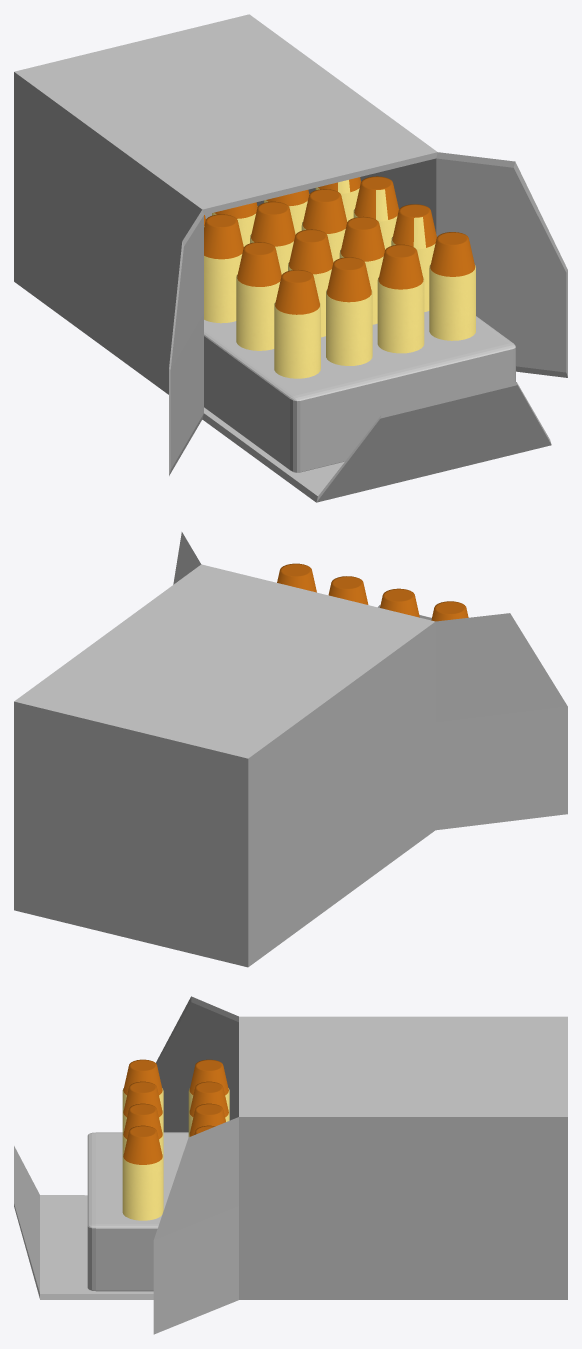
File: Mag44AmmoBox.fbx
The picture shows the model from 3 angles, top to bottom: view 1: azimuth 30°, elevation 25°; view 2: azimuth 150°, elevation 25°; view 3: azimuth 270°, elevation 25°; orthographic projection. The views are drawn at different scales.
Parts seen in each view (by area): view 1: box, bullet, bullet holder; view 2: box, bullet; view 3: box, bullet holder, bullet.
Boxes of the visible parts, x1,y1,x2,y2 form: box: (14, 14, 567, 502); bullet: (204, 176, 475, 378); bullet holder: (204, 311, 515, 472); box: (14, 532, 567, 967); bullet: (277, 563, 468, 621); box: (14, 996, 567, 1334); bullet holder: (87, 1132, 188, 1291); bullet: (122, 1059, 229, 1220).
Size of the model in its own units: 97.41 by 48.86 by 134.
